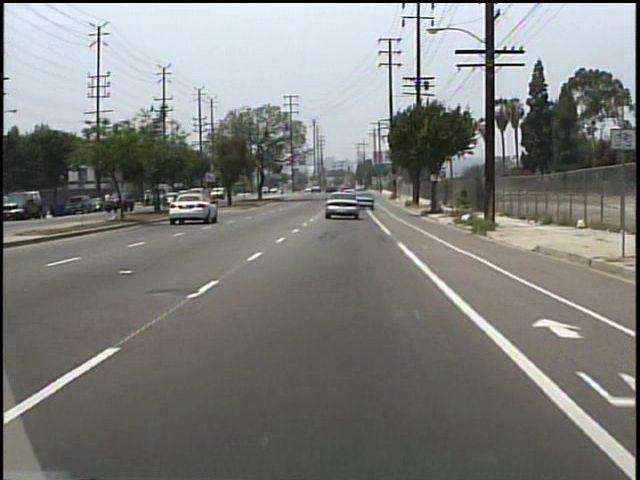person: (104, 191, 114, 211)
